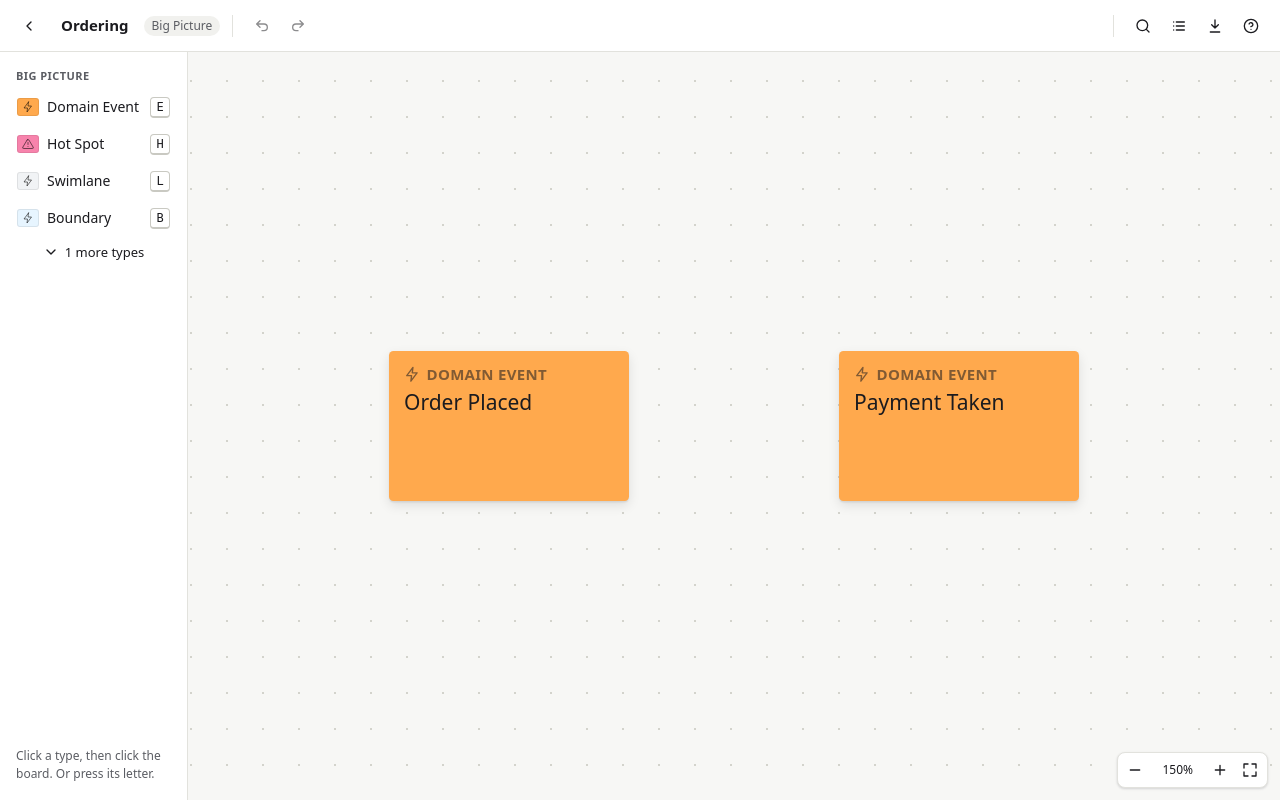
board editor › dims everything the search does not match
Expected: the button with aria-label "Domain Event: Order Placed" is shown, [389, 351, 629, 501]
Click the button named "Search and filter". click: (1143, 26)
box: [1126, 8, 1160, 42]
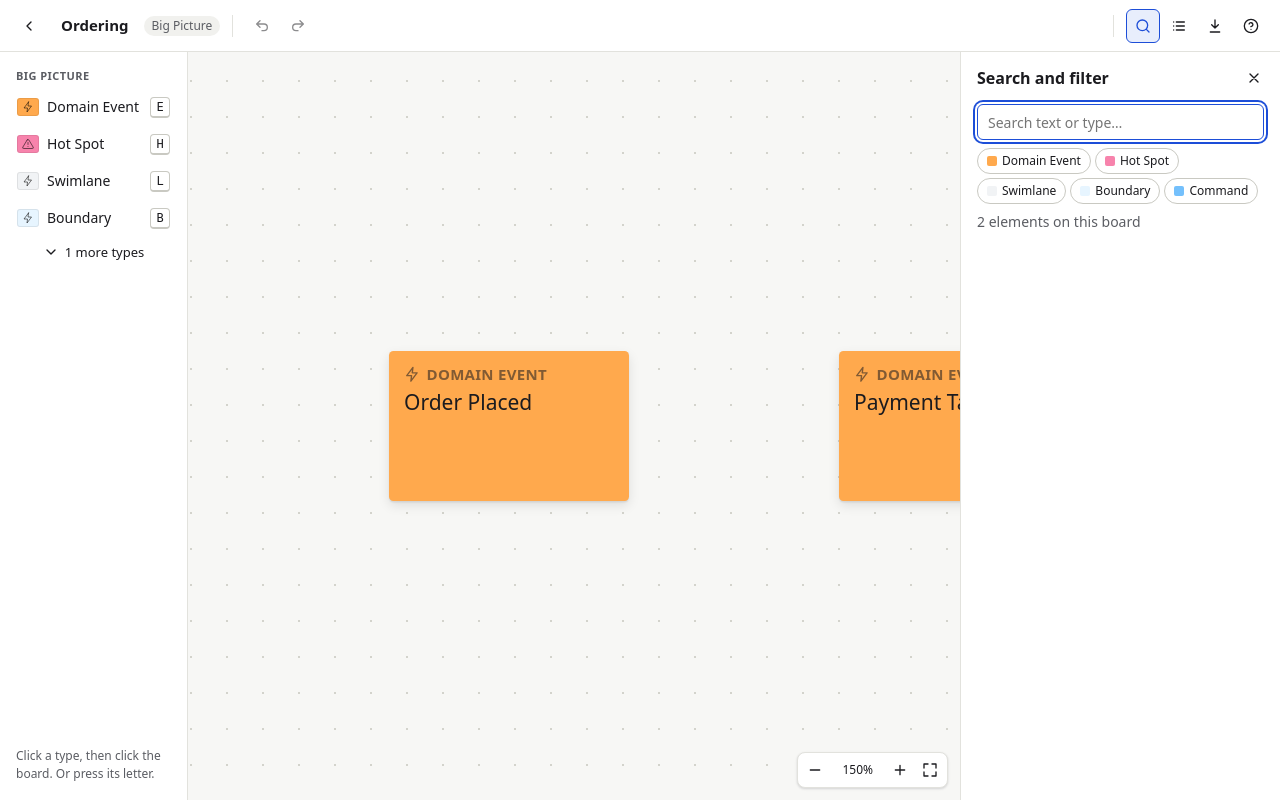
Type "payment" into the search field named "Search this board". click: (1120, 122)
box: [977, 104, 1264, 140]
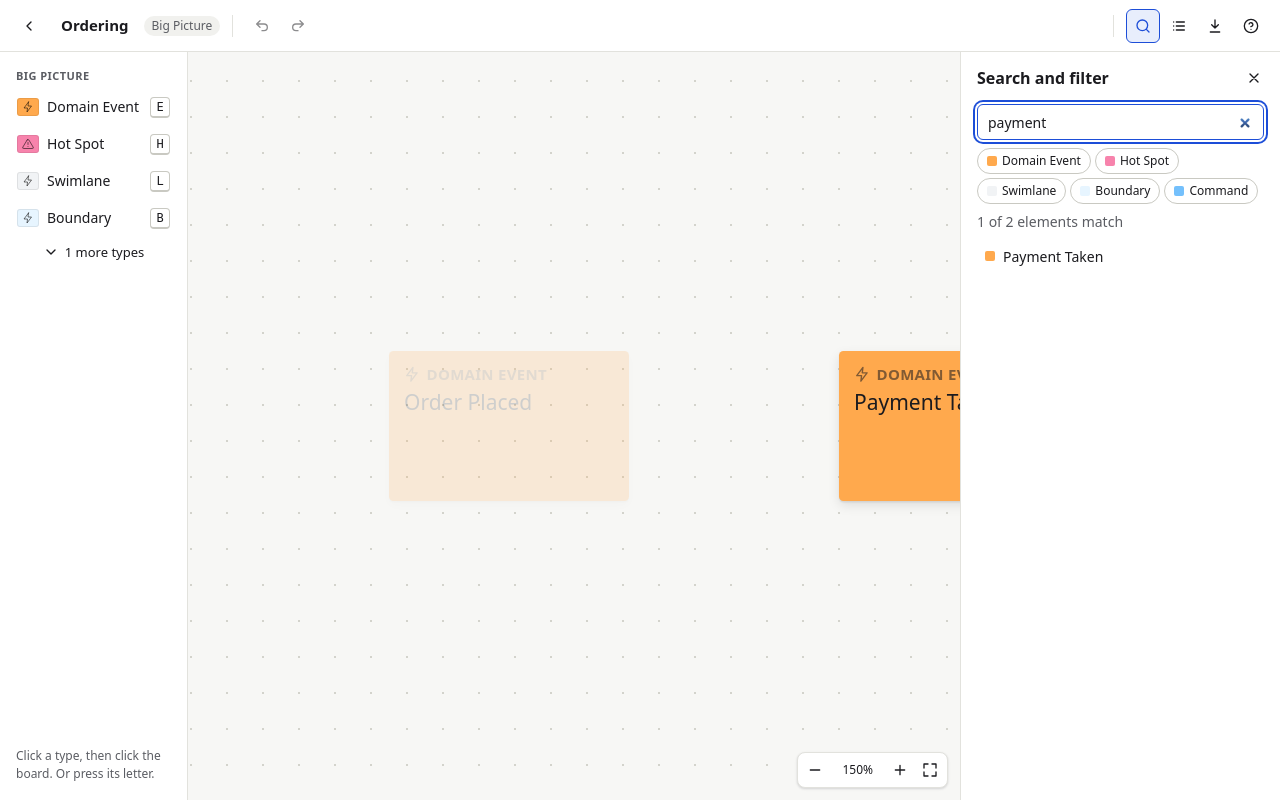
Expected: the message reads "1 of 2 elements match", [977, 212, 1123, 231]
